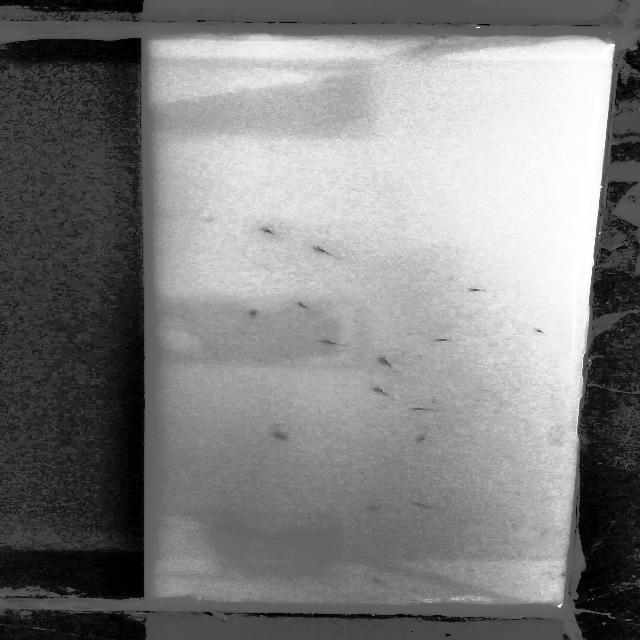shrimp: (397, 494, 446, 516), (347, 573, 407, 590), (262, 424, 296, 446), (280, 294, 316, 314), (455, 279, 489, 298), (396, 402, 442, 416), (362, 380, 395, 399), (515, 323, 556, 338), (394, 432, 439, 445), (254, 222, 285, 240), (318, 329, 340, 354), (423, 332, 456, 348), (233, 307, 270, 319), (375, 352, 394, 372), (309, 245, 335, 257)
